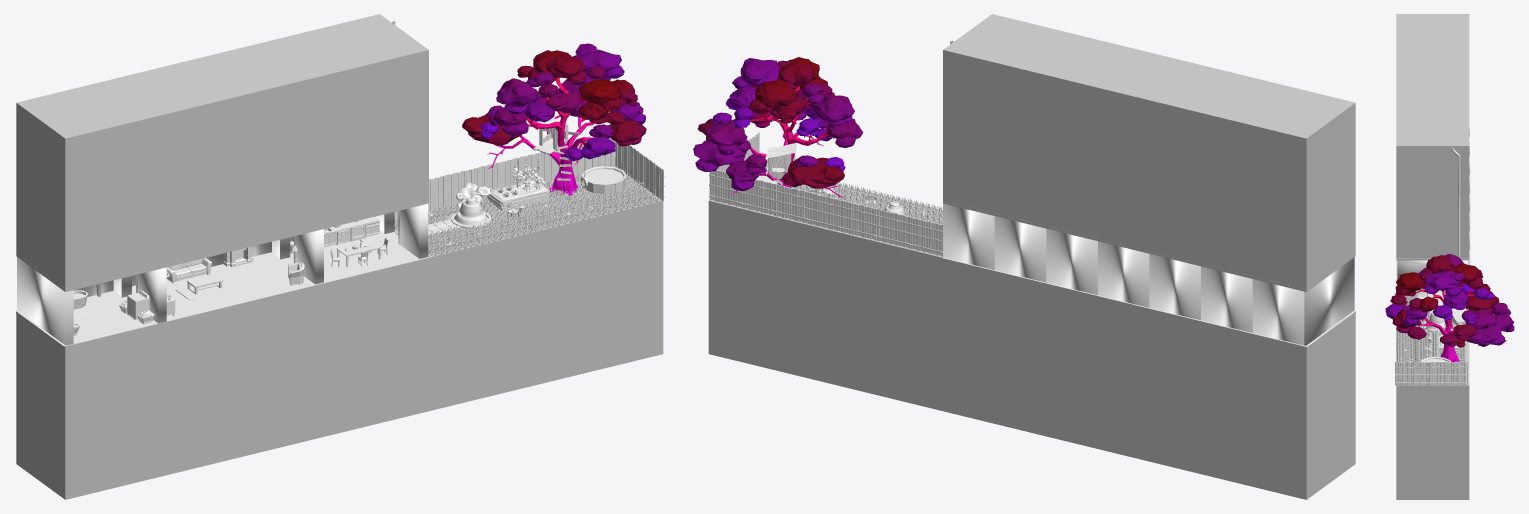
File: House_new.fbx
3 views of the same model, side by side, from view 1: azimuth 30°, elevation 25°; view 2: azimuth 150°, elevation 25°; view 3: azimuth 270°, elevation 25° (orthographic). The views are drawn at different scales.
Parts seen in each view (by area): view 1: Cube.004, Cube.003, SM_Env_Tree_Leaves_01, SM_Bld_House_Interior_Floor_01, Cube.002, SM_Env_Grass_Patch_03.014, SM_Env_Fence_Wood_Straight_01, SM_Bld_House_InteriorWall_01.001, SM_Env_Tree_Large_01, SM_Env_Grass_Patch_03.001, SM_Bld_House_InteriorWall_Door_01.002, SM_Bld_House_InteriorWall_Door_01.001 (+8 smaller); view 2: Cube.004, Cube.003, SM_Bld_House_InteriorWall_01, SM_Env_Tree_Leaves_01, SM_Env_Fence_Wood_Straight_01, SM_Bld_House_InteriorWall_01.001, Cube.002, SM_Env_Grass_Patch_03.014, Cube.001, Cube, SM_Env_Tree_Large_01, SM_Env_Tree_House_01; view 3: Cube.003, Cube.004, SM_Env_Tree_Leaves_01, SM_Env_Fence_Wood_Straight_01.001, SM_Env_Grass_Patch_03.014, Cube.002, SM_Env_Tree_Large_01, SM_Bld_House_InteriorWall_Door_01.002, SM_Bld_House_DrainPipe_01, SM_Bld_House_Interior_Floor_01, SM_Env_Tree_House_01.
Part boxes in pixels (x1,y1,x2,y2): Cube.004: [16, 203, 663, 499]; Cube.003: [16, 14, 428, 289]; SM_Env_Tree_Leaves_01: [462, 43, 646, 161]; SM_Bld_House_Interior_Floor_01: [14, 230, 428, 346]; Cube.002: [394, 166, 663, 260]; SM_Env_Grass_Patch_03.014: [394, 182, 592, 255]; SM_Env_Fence_Wood_Straight_01: [394, 137, 615, 219]; SM_Bld_House_InteriorWall_01.001: [17, 257, 73, 345]; SM_Env_Tree_Large_01: [487, 77, 594, 195]; SM_Env_Grass_Patch_03.001: [547, 165, 660, 217]; SM_Bld_House_InteriorWall_Door_01.002: [375, 203, 428, 258]; SM_Bld_House_InteriorWall_Door_01.001: [272, 229, 323, 284]; Cube.004: [708, 203, 1355, 499]; Cube.003: [943, 14, 1355, 289]; SM_Bld_House_InteriorWall_01: [943, 203, 1304, 345]; SM_Env_Tree_Leaves_01: [693, 57, 863, 190]; SM_Env_Fence_Wood_Straight_01: [709, 169, 942, 256]; SM_Bld_House_InteriorWall_01.001: [1304, 257, 1354, 345]; Cube.002: [708, 184, 943, 260]; SM_Env_Grass_Patch_03.014: [814, 182, 942, 224]; Cube.001: [943, 200, 1355, 291]; Cube: [943, 258, 1355, 349]; SM_Env_Tree_Large_01: [731, 85, 844, 198]; SM_Env_Tree_House_01: [766, 142, 796, 184]; Cube.003: [1396, 14, 1469, 257]; Cube.004: [1396, 388, 1469, 499]; SM_Env_Tree_Leaves_01: [1385, 254, 1514, 347]; SM_Env_Fence_Wood_Straight_01.001: [1395, 361, 1466, 385]; SM_Env_Grass_Patch_03.014: [1396, 300, 1464, 359]; Cube.002: [1396, 301, 1469, 387]; SM_Env_Tree_Large_01: [1415, 283, 1506, 362]; SM_Bld_House_InteriorWall_Door_01.002: [1397, 260, 1468, 298]; SM_Bld_House_DrainPipe_01: [1451, 146, 1460, 257]; SM_Bld_House_Interior_Floor_01: [1396, 168, 1470, 299]; SM_Env_Tree_House_01: [1441, 308, 1466, 353].
Bounding box in the file's own units: 4960 × 2796 × 1217.
